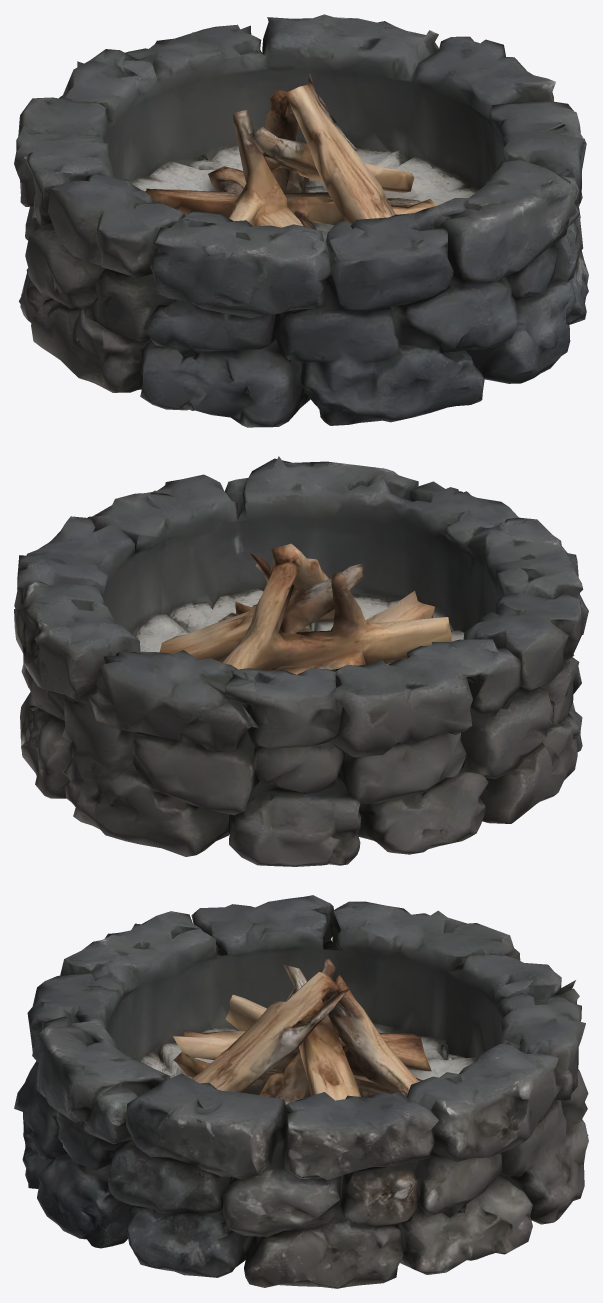
Rendered from fire-pit.glb.
3 views of the same model, one above another, from view 1: azimuth 30°, elevation 25°; view 2: azimuth 150°, elevation 25°; view 3: azimuth 270°, elevation 25° (orthographic). The views are drawn at different scales.
Visible parts, largest first — view 1: tripo_node_42fe50b9-1a7f-4ded-9504-5da1b69dffe2; view 2: tripo_node_42fe50b9-1a7f-4ded-9504-5da1b69dffe2; view 3: tripo_node_42fe50b9-1a7f-4ded-9504-5da1b69dffe2.
Part boxes in pixels (x1,y1,x2,y2): tripo_node_42fe50b9-1a7f-4ded-9504-5da1b69dffe2: (14,14,588,427); tripo_node_42fe50b9-1a7f-4ded-9504-5da1b69dffe2: (14,456,588,866); tripo_node_42fe50b9-1a7f-4ded-9504-5da1b69dffe2: (14,895,588,1288).
Size of the model in its own units: 0.9672 by 0.4002 by 1.
Materials: 1 (1 with a texture image).
